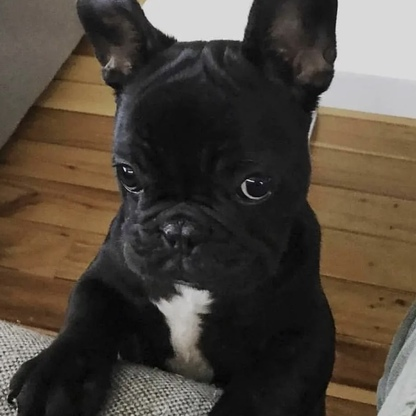bulldog: (68, 8, 342, 298)
